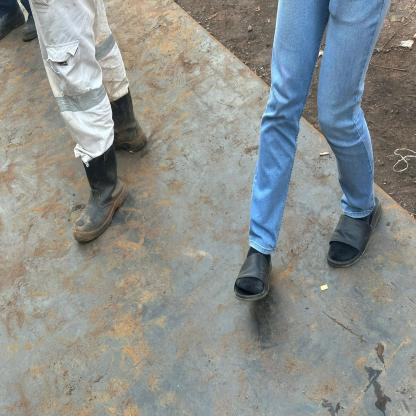bota: (70, 146, 128, 242), (97, 90, 153, 157)
